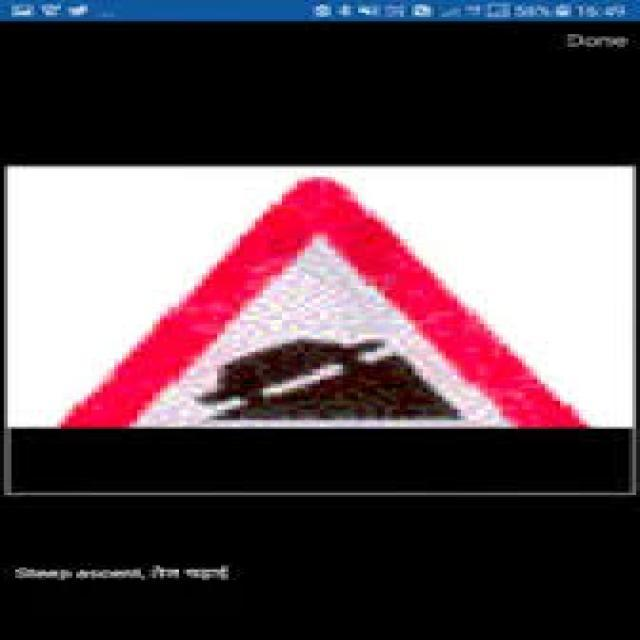steep ascent: (56, 176, 594, 433)
